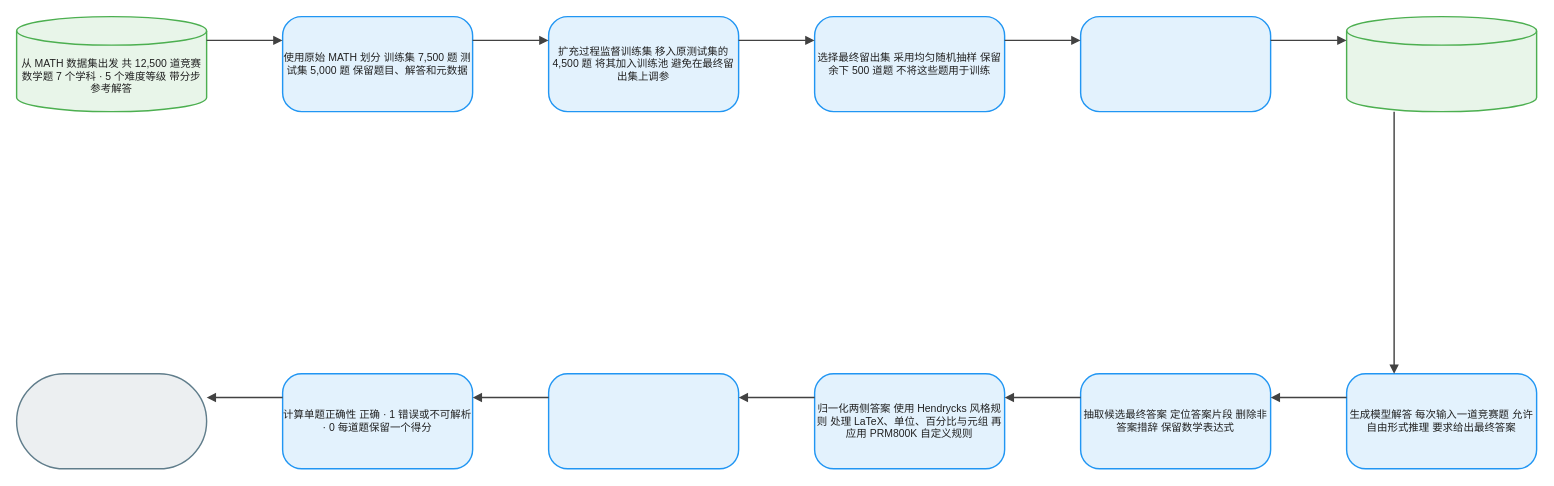
Image size: 1554x486. Some labels were removed from this diagram. Here are the shapes that lost their labels. From the top down, the centre of each, then its label:
At (x=1175, y=63): "检查留出集组成 比较学科分布 比较难度分布 确认其代表 MATH 测试集".
At (x=1441, y=63): "发布 MATH500 共 500 道留出题 官方划分位于 PRM800K 仓库 保留完整参考解答".
At (x=111, y=421): "报告 MATH500 准确率 500 题平均正确率 可按学科与难度分解 始终使用固定留出集".
At (x=643, y=421): "两侧答案等价？ 归一化字符串相同 或 SymPy 差为 0".
